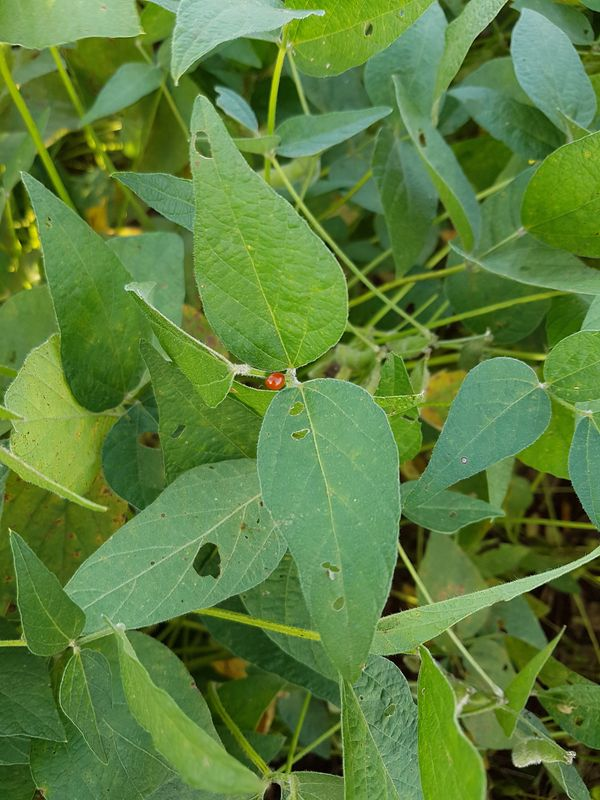Coccinellidae: (254, 362, 296, 403)
